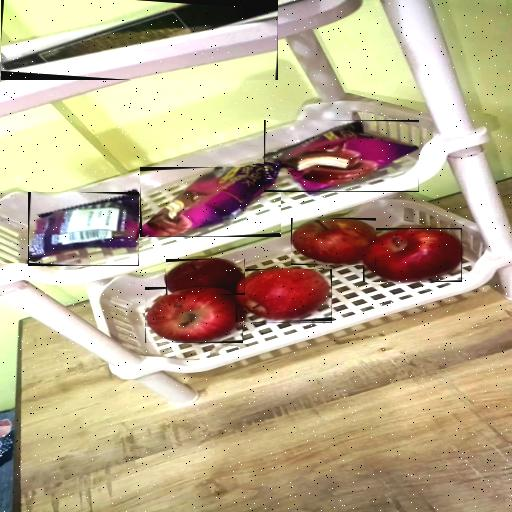Apple: (145, 287, 243, 343), (363, 228, 462, 282), (236, 270, 332, 324), (291, 218, 376, 265), (166, 259, 245, 295)
Choco Fills: (1, 0, 278, 80)
Choco Pie: (264, 120, 419, 192), (140, 167, 281, 237), (28, 192, 139, 266)
